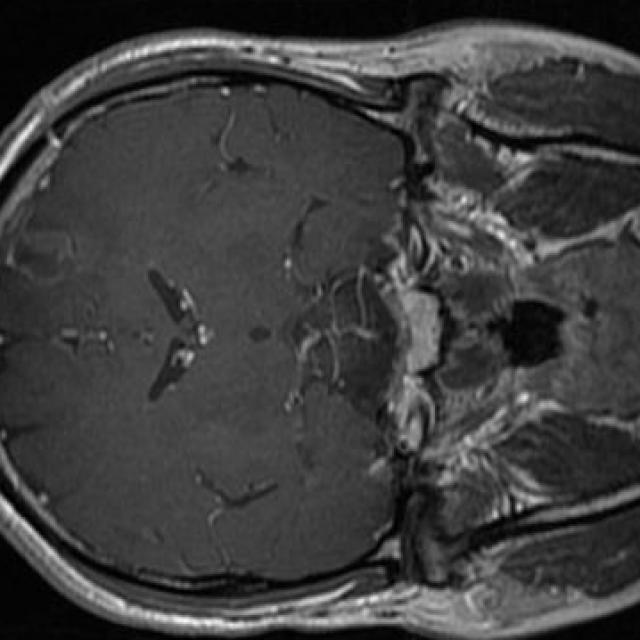glioma: (5, 228, 87, 287)
